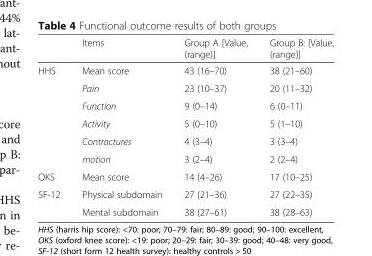table: (37, 36, 333, 217)
table column: (70, 36, 172, 217), (172, 36, 257, 217), (257, 36, 333, 217), (37, 36, 70, 217)
table column header: (37, 36, 333, 61)
table row: (37, 36, 333, 61), (37, 61, 333, 79), (37, 96, 333, 114), (37, 114, 333, 132), (37, 149, 333, 167), (37, 167, 333, 185), (37, 79, 333, 96), (37, 132, 333, 149), (37, 185, 333, 202), (37, 202, 333, 217)
table spanning cell: (37, 61, 70, 167), (37, 185, 70, 217)
